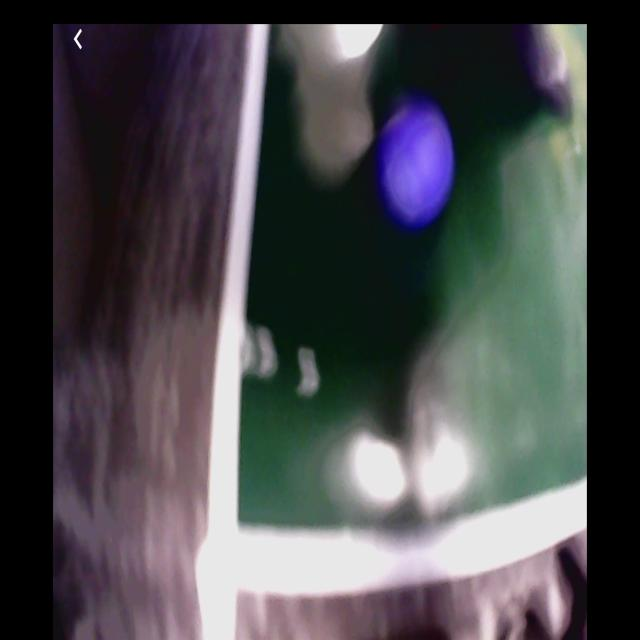ball: (374, 100, 458, 233)
